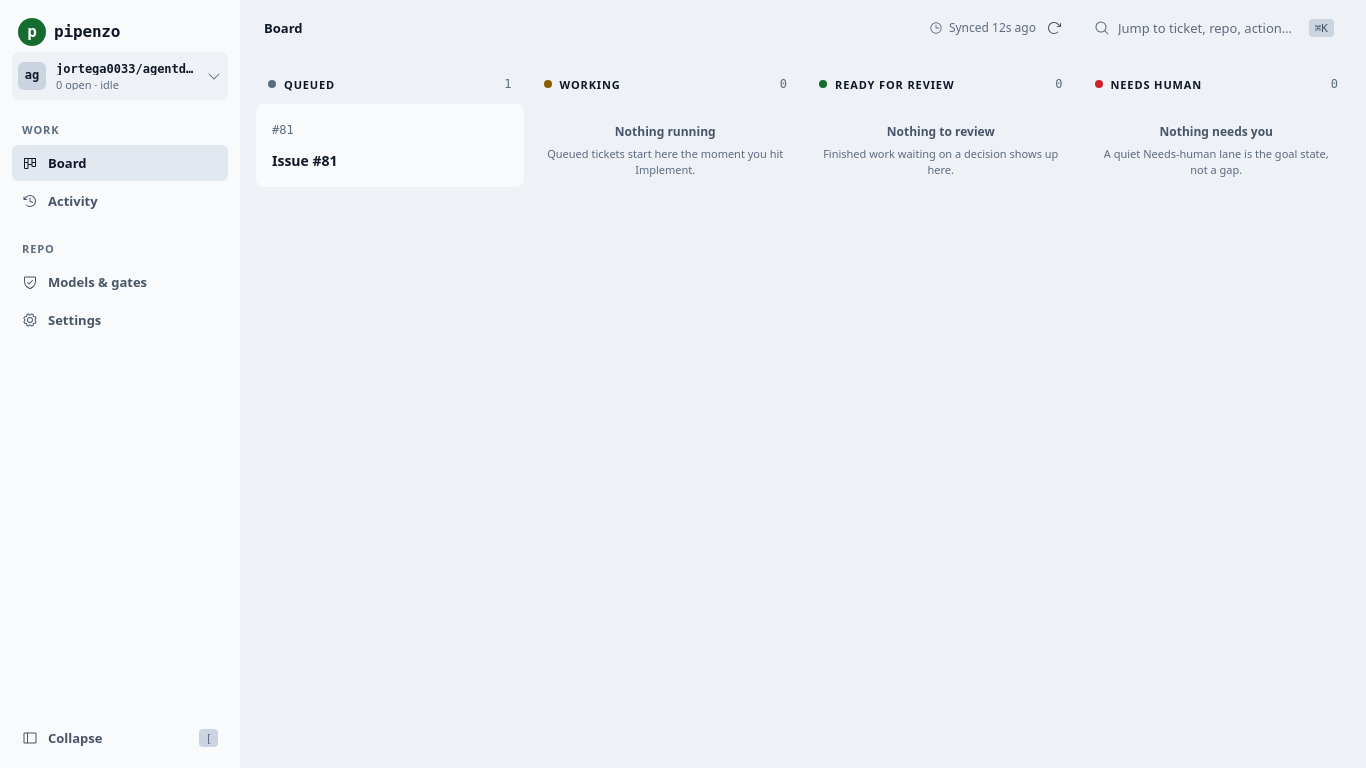
Test: PipenzoAppShell › the workspace switcher › switches the active repo when a different one is picked from the menu
Click the button "ag jortega0033/agentdock 0 open · idle" at (120, 76), box x1=12 y1=52 x2=228 y2=100
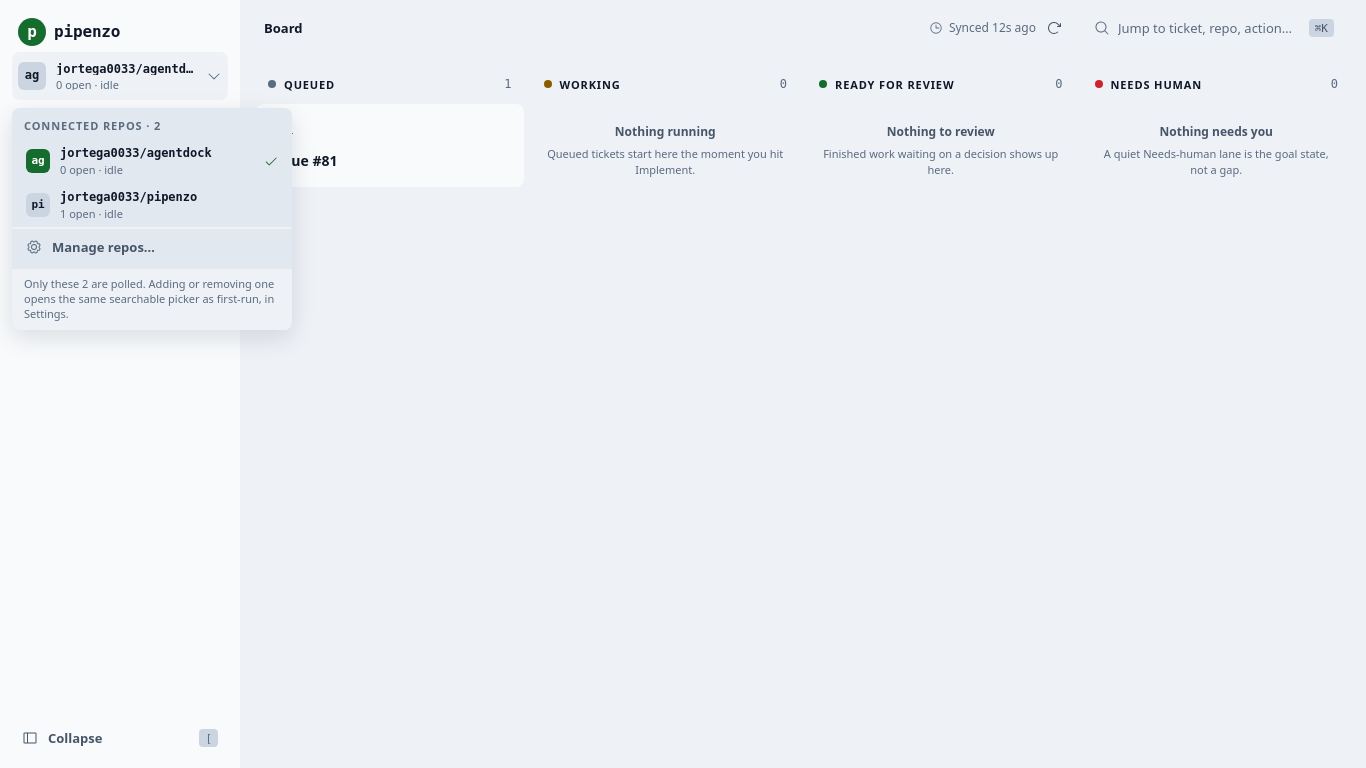
Click the button "pi jortega0033/pipenzo 1 open · idle" at (152, 205), box x1=16 y1=183 x2=288 y2=227
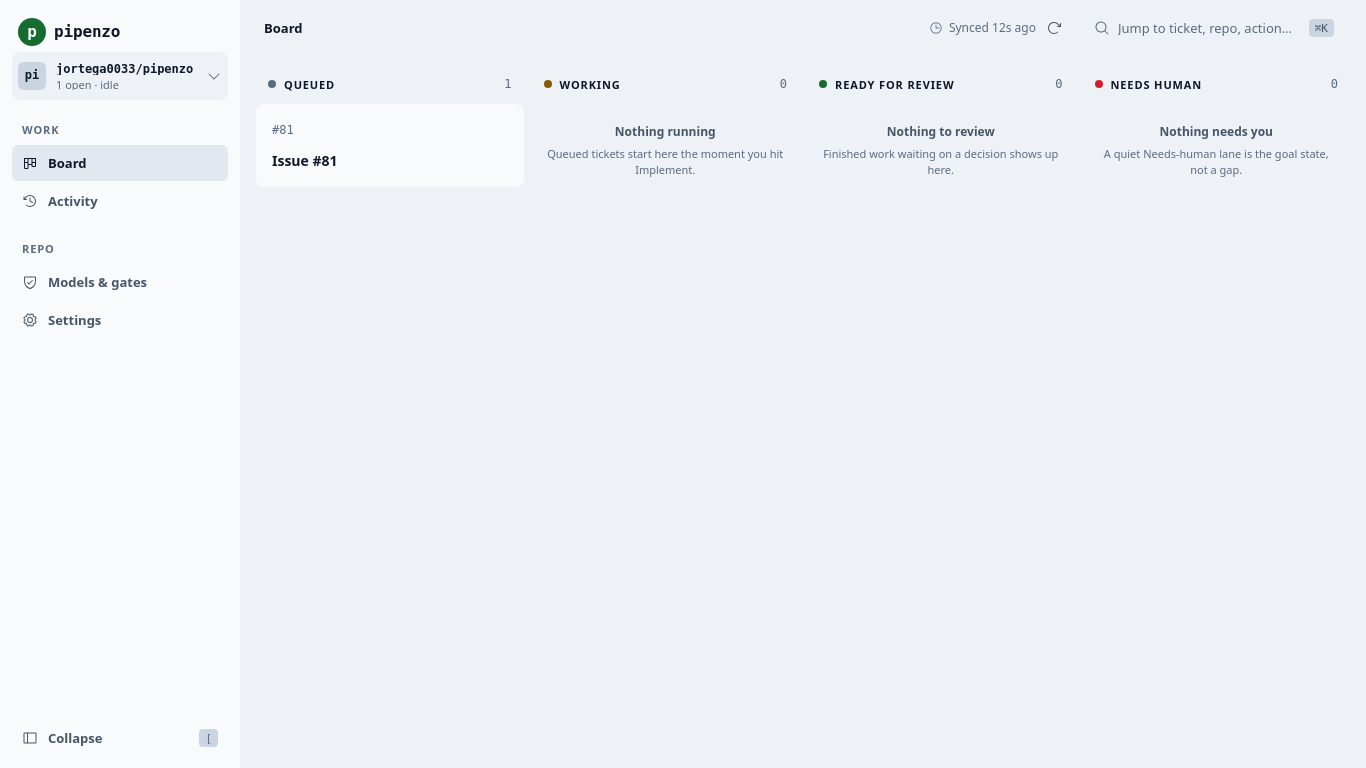
Now the dialog is gone
